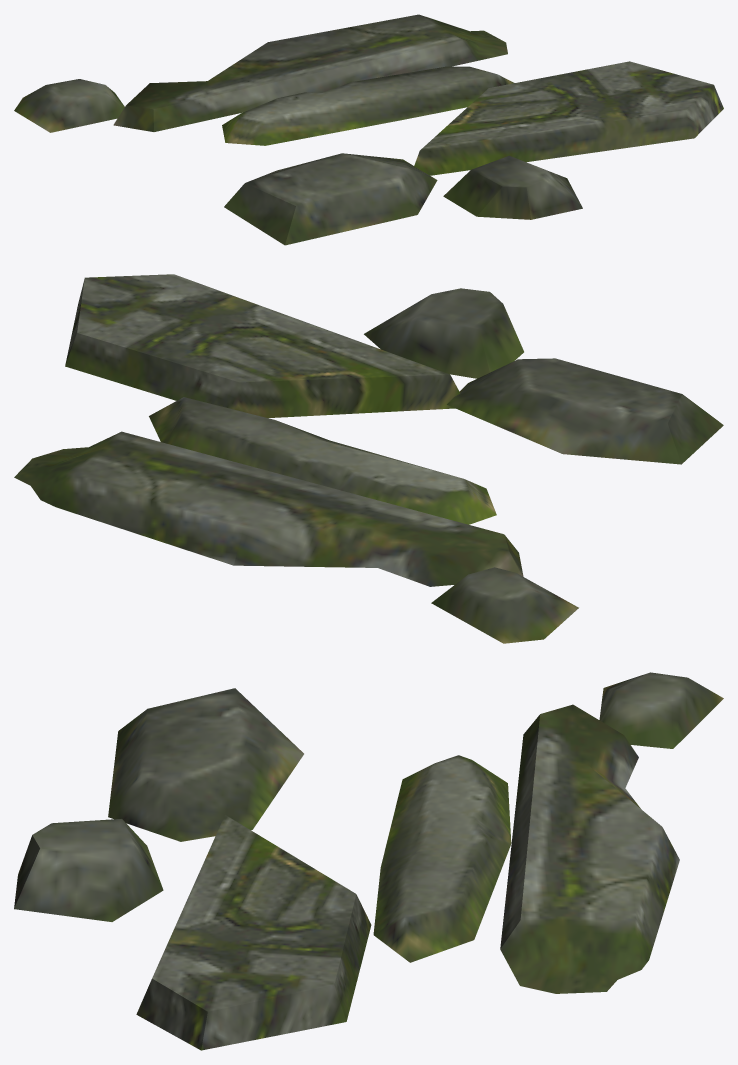
Rendered from 4007_Item_shitou_5.FBX.
The picture shows the model from 3 angles, top to bottom: view 1: azimuth 30°, elevation 25°; view 2: azimuth 150°, elevation 25°; view 3: azimuth 270°, elevation 25°; orthographic projection. The views are drawn at different scales.
Parts seen in each view (by area): view 1: 4007_Item_shitou_5; view 2: 4007_Item_shitou_5; view 3: 4007_Item_shitou_5.
Boxes of the visible parts, <box> form: 4007_Item_shitou_5: <box>14,14,723,245</box>; 4007_Item_shitou_5: <box>14,274,723,643</box>; 4007_Item_shitou_5: <box>14,672,723,1050</box>.
Bounding box in the file's own units: 333 × 23 × 273.
